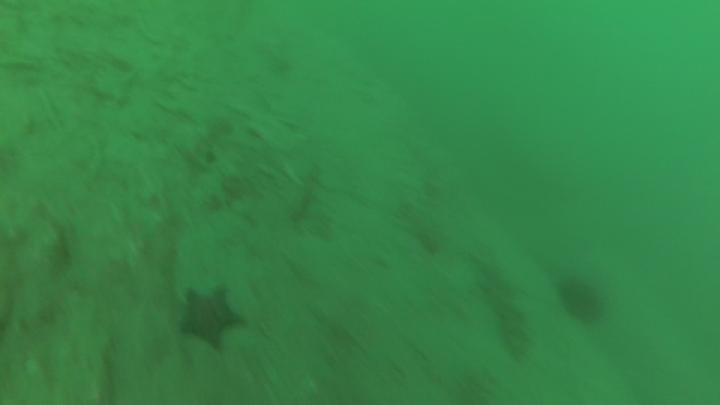echinus: (561, 279, 601, 319)
holothurian: (470, 252, 533, 364)
starfish: (180, 289, 239, 347)
